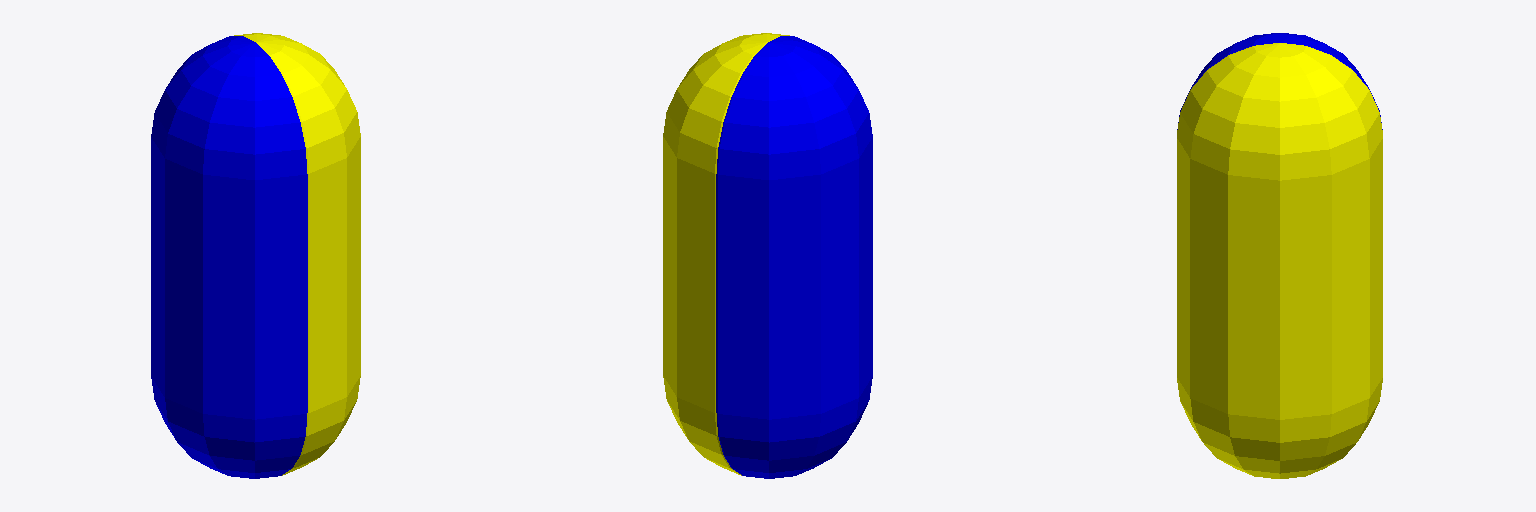
Rendered from pill2.obj.
3 renders of one model, left to right at view 1: azimuth 30°, elevation 25°; view 2: azimuth 150°, elevation 25°; view 3: azimuth 270°, elevation 25°, orthographic.
Parts seen in each view (by area): view 1: Mesh2 capsule1 Model, Mesh1 capsule Model; view 2: Mesh2 capsule1 Model, Mesh1 capsule Model; view 3: Mesh1 capsule Model, Mesh2 capsule1 Model.
Part boxes in pixels (x1,y1,x2,y2): Mesh2 capsule1 Model: (151,36,307,478); Mesh1 capsule Model: (234,33,360,475); Mesh2 capsule1 Model: (716,36,872,478); Mesh1 capsule Model: (663,33,789,475); Mesh1 capsule Model: (1177,43,1382,478); Mesh2 capsule1 Model: (1177,33,1382,129).
Bounding box in the file's own units: 50.76 × 114 × 49.94.